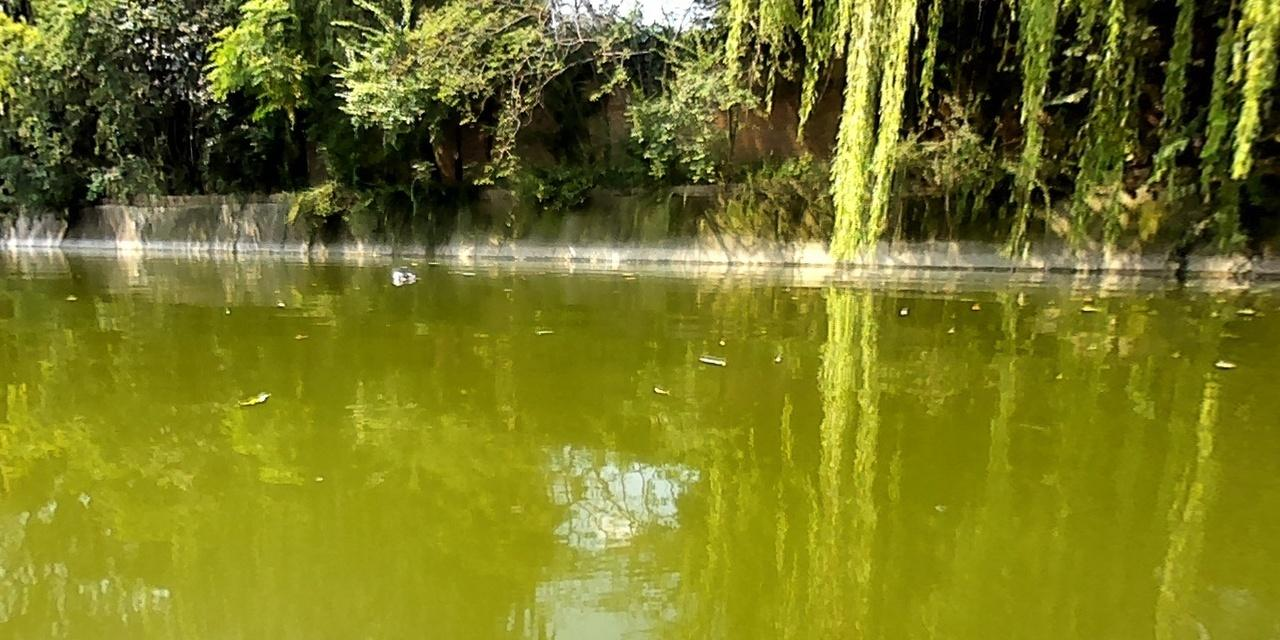bottle: (388, 267, 419, 281)
